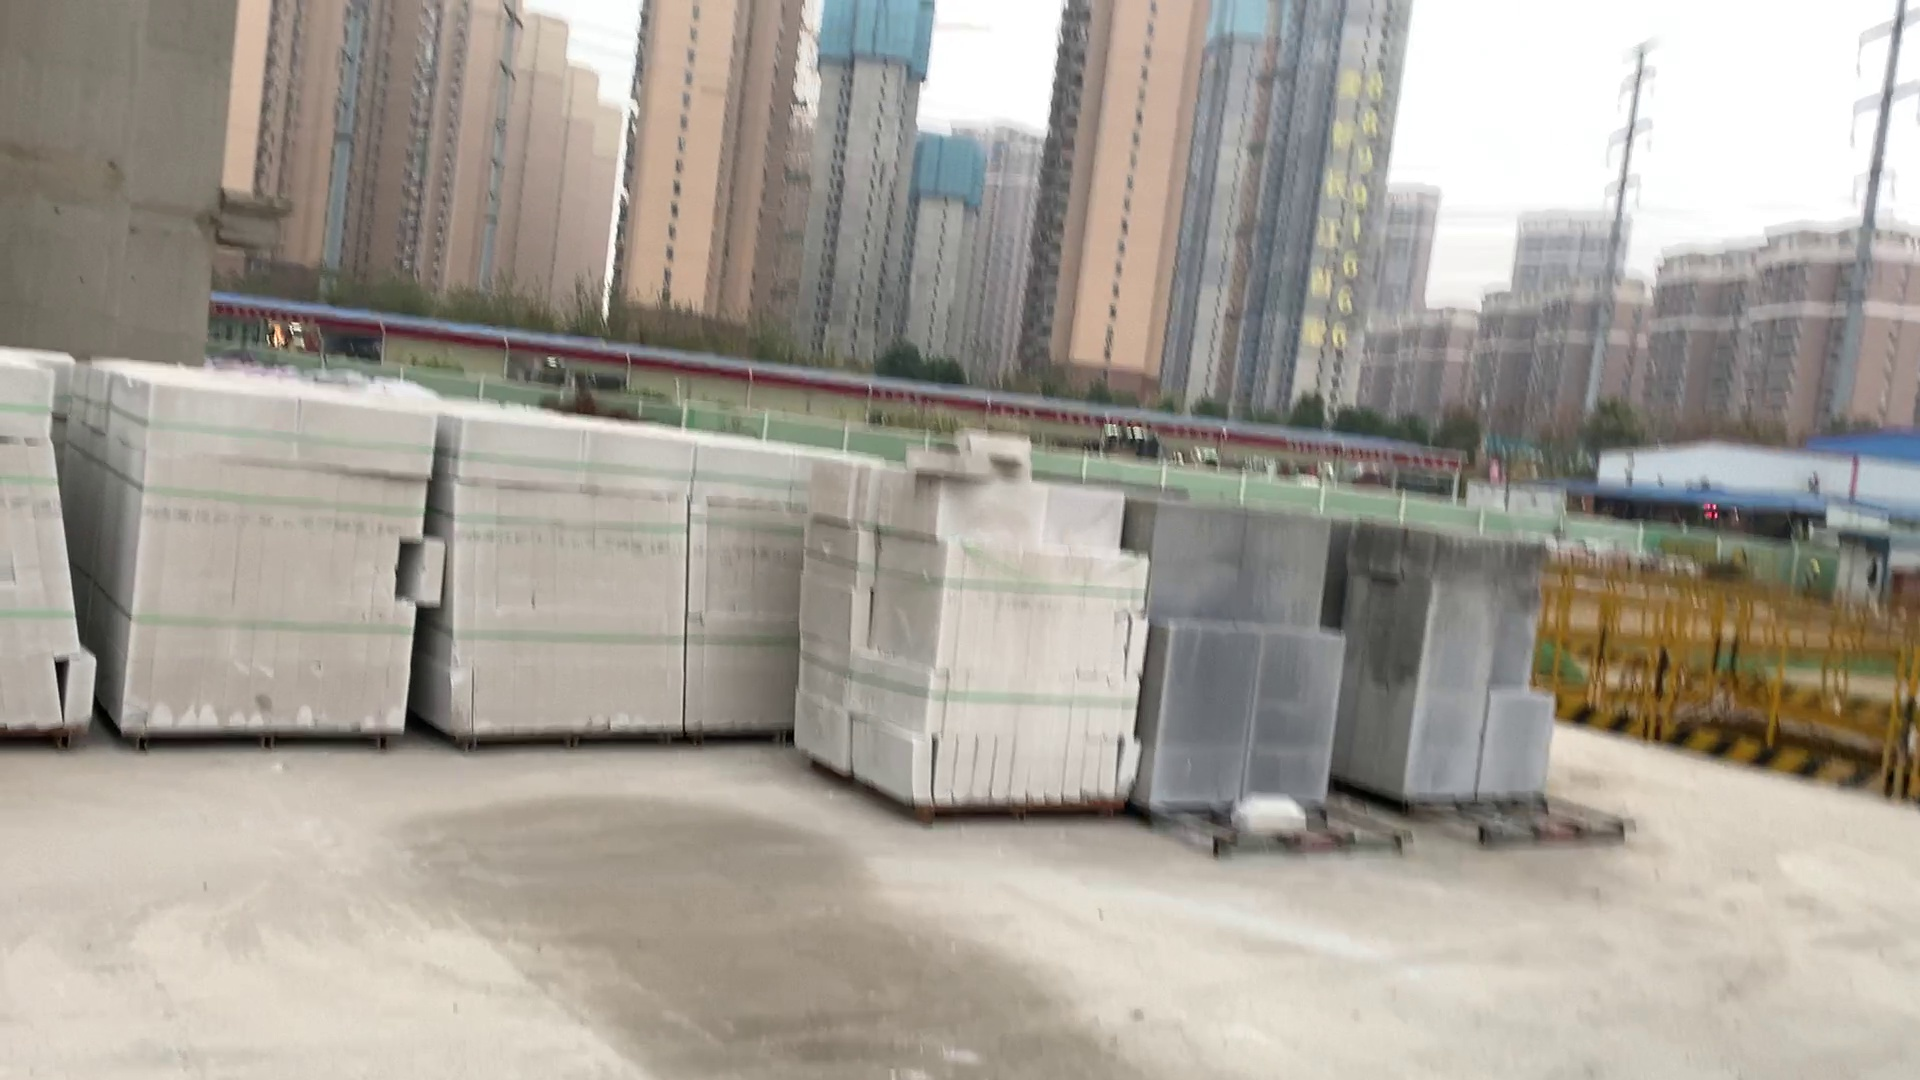brickwork: (808, 456, 1141, 822), (123, 372, 427, 749), (427, 411, 688, 738), (1133, 488, 1342, 818), (1349, 527, 1561, 812), (1, 345, 112, 738), (695, 439, 800, 735)
